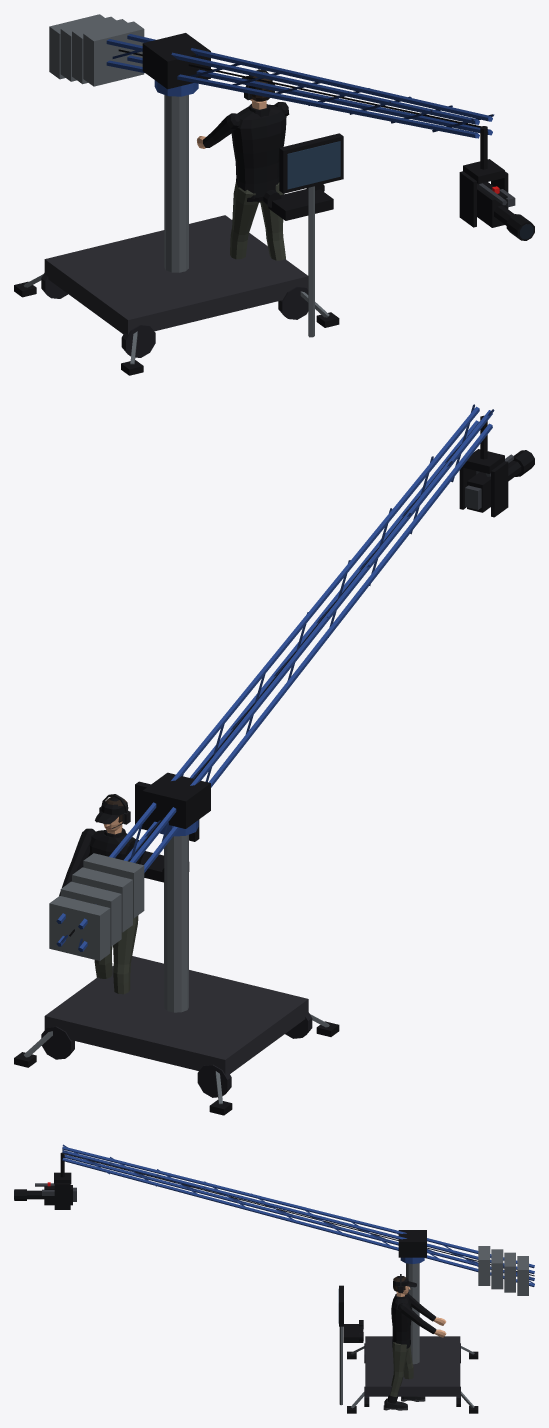
Rendered from camera_crane.glb.
3 views of the same model, one above another, from view 1: azimuth 30°, elevation 25°; view 2: azimuth 150°, elevation 25°; view 3: azimuth 270°, elevation 25° (orthographic). The views are drawn at different scales.
Visible parts, largest first — view 1: Base, Track; view 2: Base, Track; view 3: Track, Base.
Part boxes in pixels (x1=…): Base: x1=14, y1=69, x2=343, y2=375; Track: x1=49, y1=14, x2=534, y2=240; Base: x1=14, y1=781, x2=339, y2=1115; Track: x1=49, y1=404, x2=534, y2=960; Track: x1=14, y1=1144, x2=534, y2=1295; Base: x1=338, y1=1257, x2=478, y2=1413.
Size of the model in its own units: 1.75 by 3.31 by 6.58.
